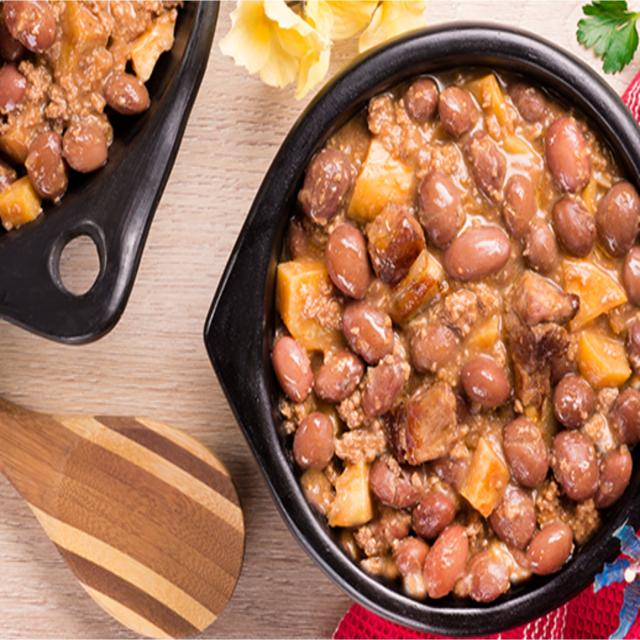frijoles: (254, 64, 636, 612)
